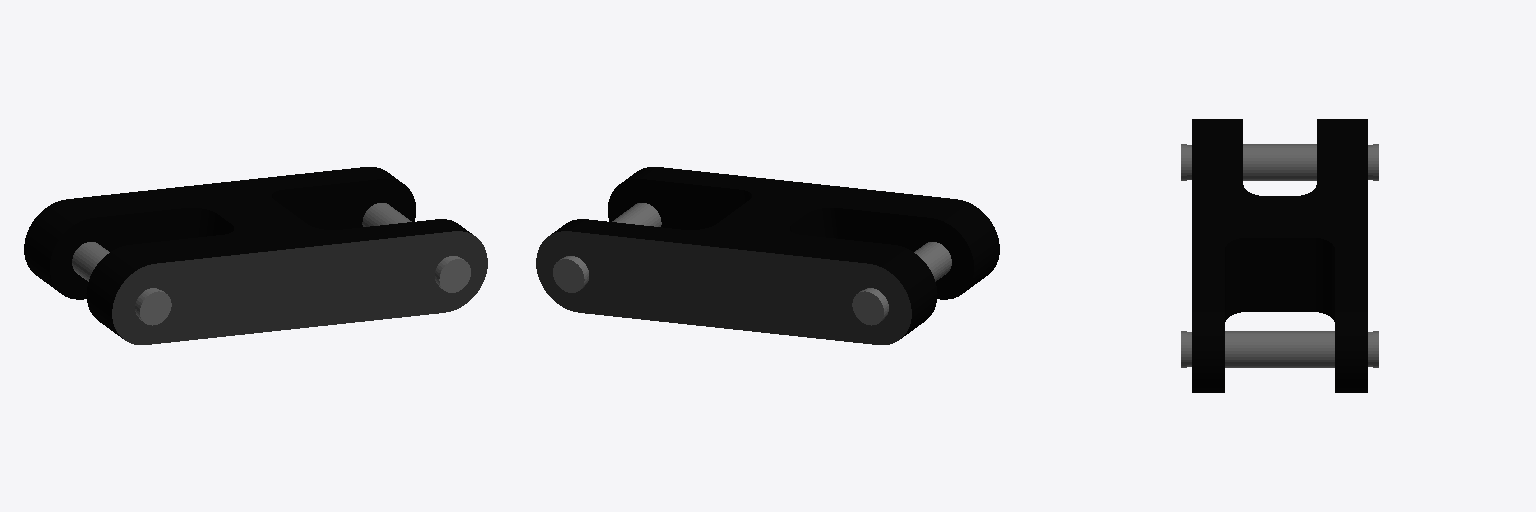
File: robotiq_85_finger_link.obj
The picture shows the model from 3 angles: view 1: azimuth 30°, elevation 25°; view 2: azimuth 150°, elevation 25°; view 3: azimuth 270°, elevation 25°; orthographic projection.
Parts seen in each view (by area): view 1: robotiq_85_finger_link_robotiq_85_finger_link.001; view 2: robotiq_85_finger_link_robotiq_85_finger_link.001; view 3: robotiq_85_finger_link_robotiq_85_finger_link.001.
Part boxes in pixels (x1,y1,x2,y2): robotiq_85_finger_link_robotiq_85_finger_link.001: (24,167,487,344); robotiq_85_finger_link_robotiq_85_finger_link.001: (536,167,999,344); robotiq_85_finger_link_robotiq_85_finger_link.001: (1181,119,1378,392).
Size of the model in its own units: 0.0591 by 0.0181 by 0.027.